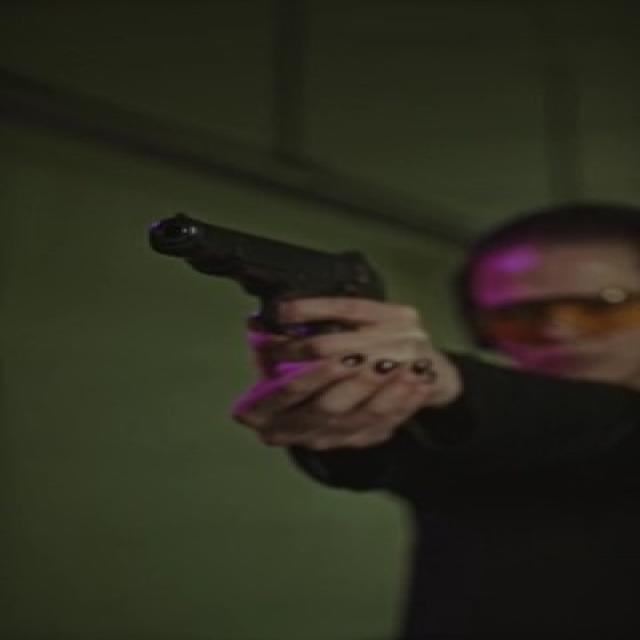Gun_Holder: (102, 206, 480, 459)
Person: (344, 182, 640, 640)
